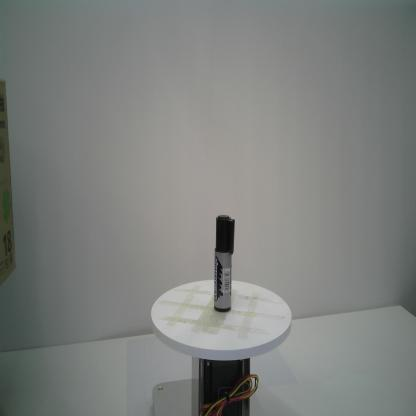Stationery: (214, 214, 236, 313)
